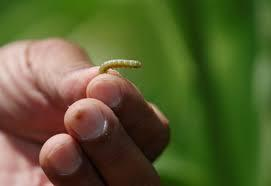fallarmy_worm: (97, 54, 145, 78)
